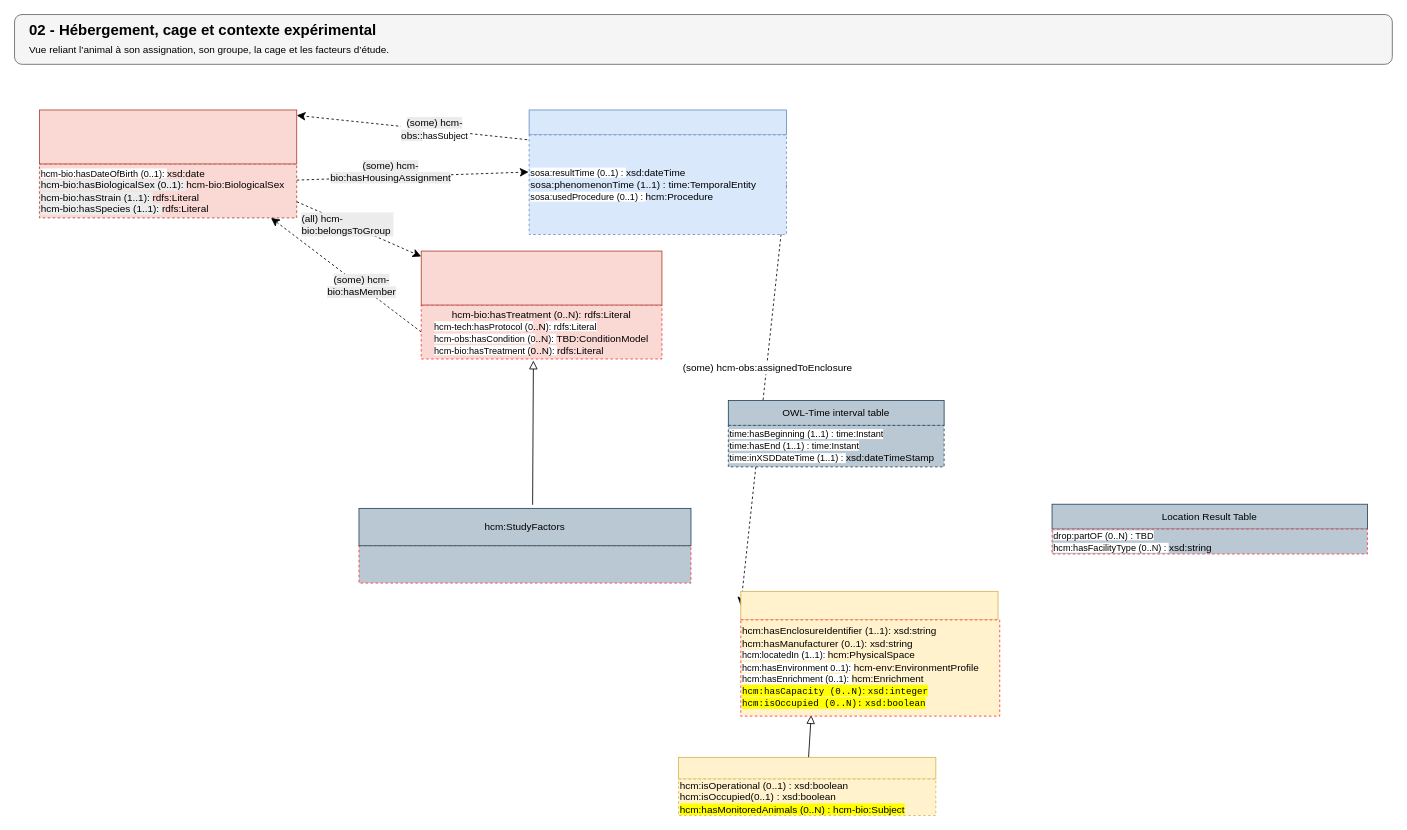
Some shapes in this 1407 by 830 pixel diagram are drawn without their labels. The centre of each missing label's shape, as x and y in pixels:
"hcm-bio:ExperimentalGroup" belongs at point 541,277.
"hcm-bio:Subject" belongs at point 168,136.
"hcm-obs:HousingAssignment" belongs at point 657,122.
"hcm:Enclosure" belongs at point 869,605.
"hcm:hasName (0..N): xsd:string drop:hasType (0..N): xsd:string" belongs at point 524,564.
"hcm:MonitoredEnclosure" belongs at point 807,768.
